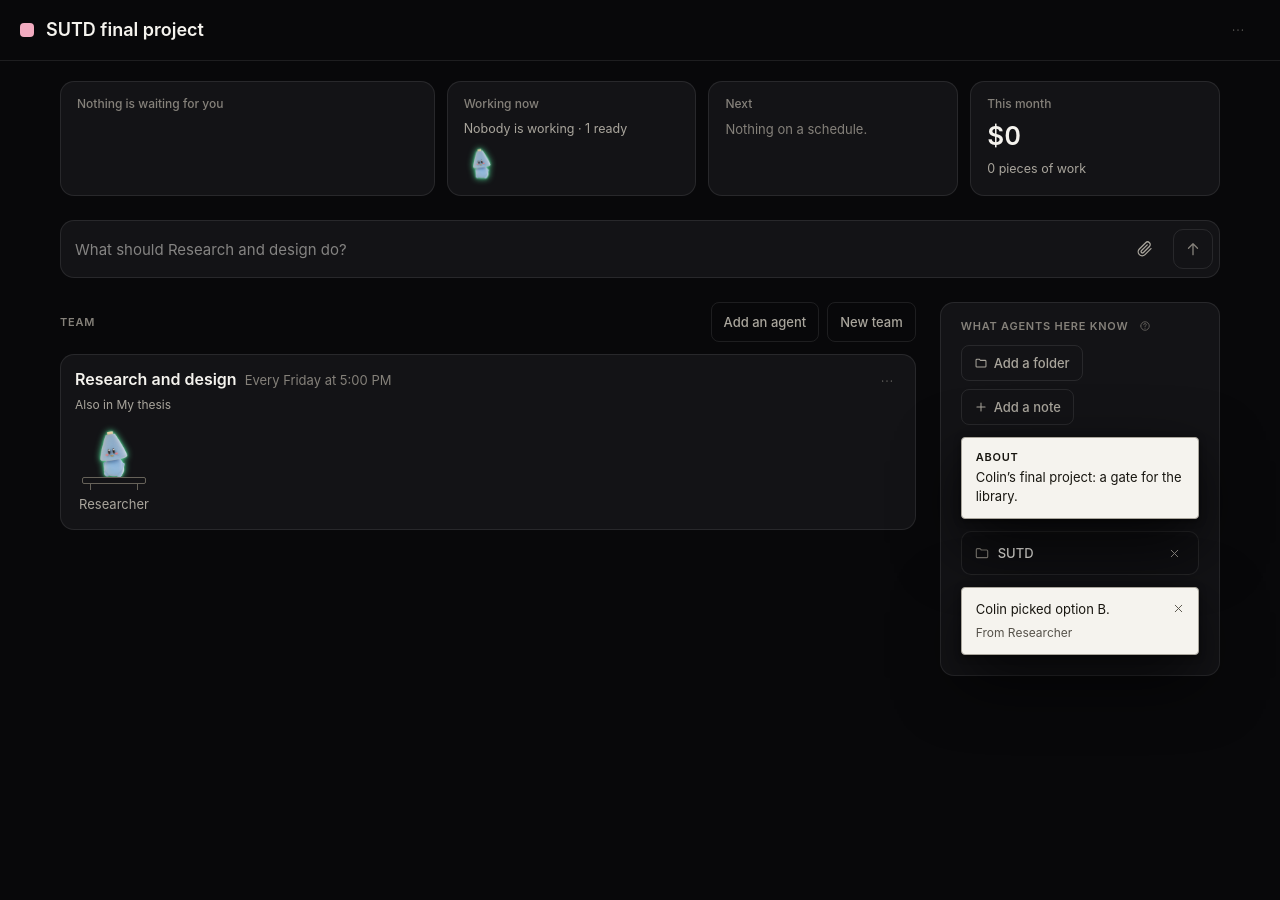
a project’s room (ADR 0097) › a team that works in another project too › says where else it works, and asks before taking it out of this one
Check: the element "Research and design" shows "Also in My thesis", box [60,354,916,530]
Click the button named "More for Research and design": (887, 381) [865,359,909,403]
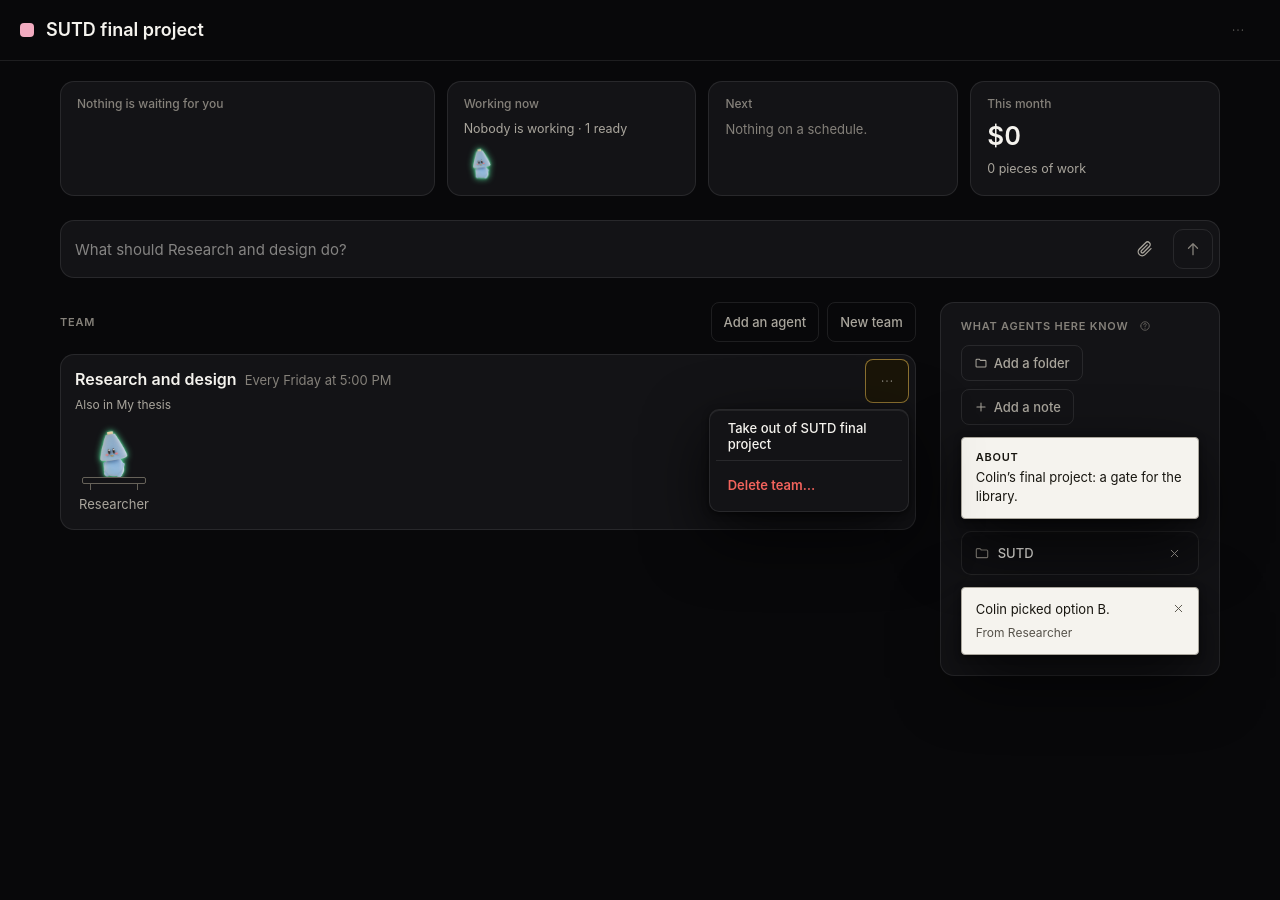
Click the menu item "Take out of SUTD final project": (809, 436) [716,416,902,456]
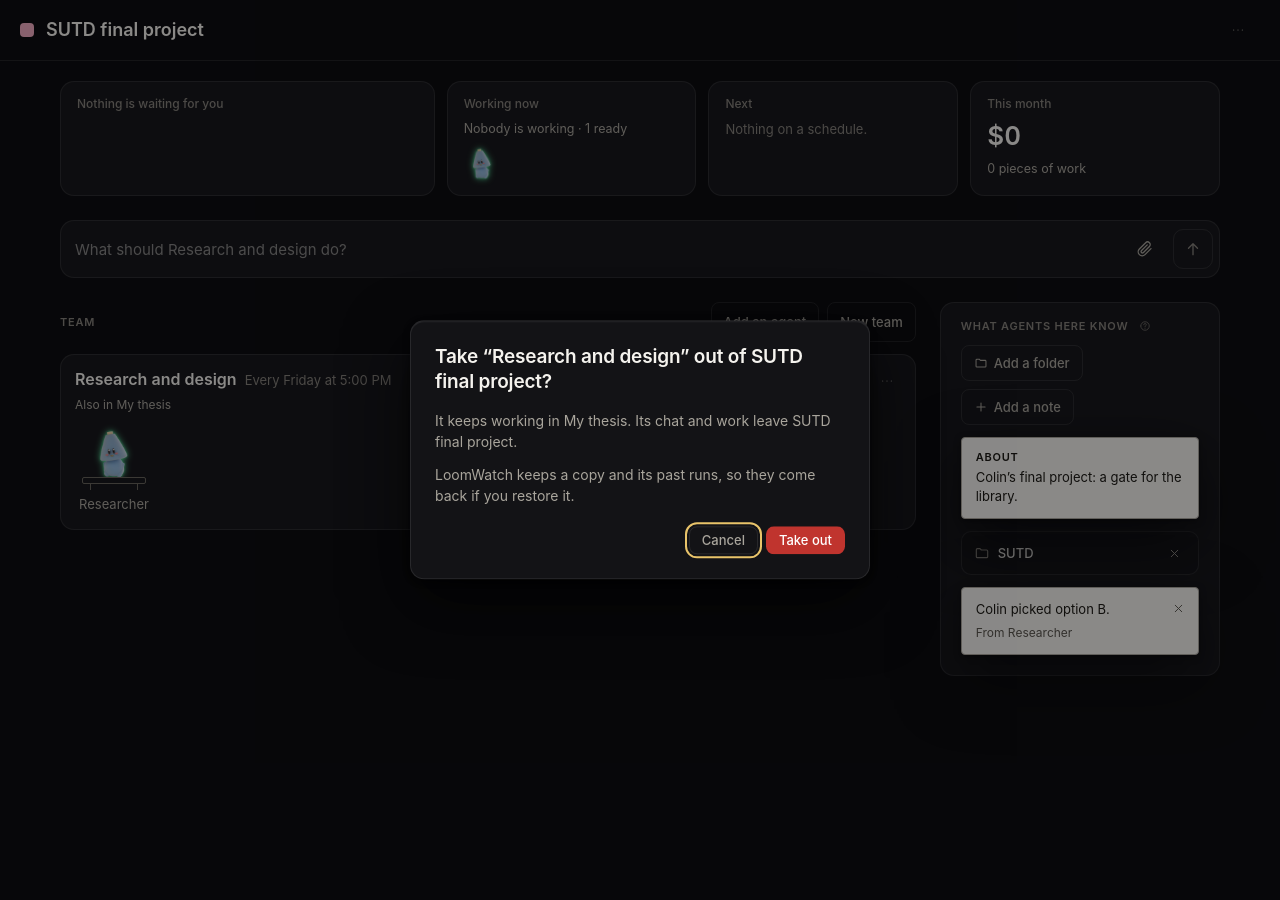
Check: the dialog "Take “Research and design” out of SUTD final project?" shows "It keeps working in My thesis. Its chat and work leave SUTD final project.", box [410,320,870,580]
Check: the dialog "Take “Research and design” out of SUTD final project?" shows "LoomWatch keeps a copy and its past runs, so they come back if you restore it.", box [435,467,815,505]
Click the button "Take out": (805, 541) [766,527,845,555]
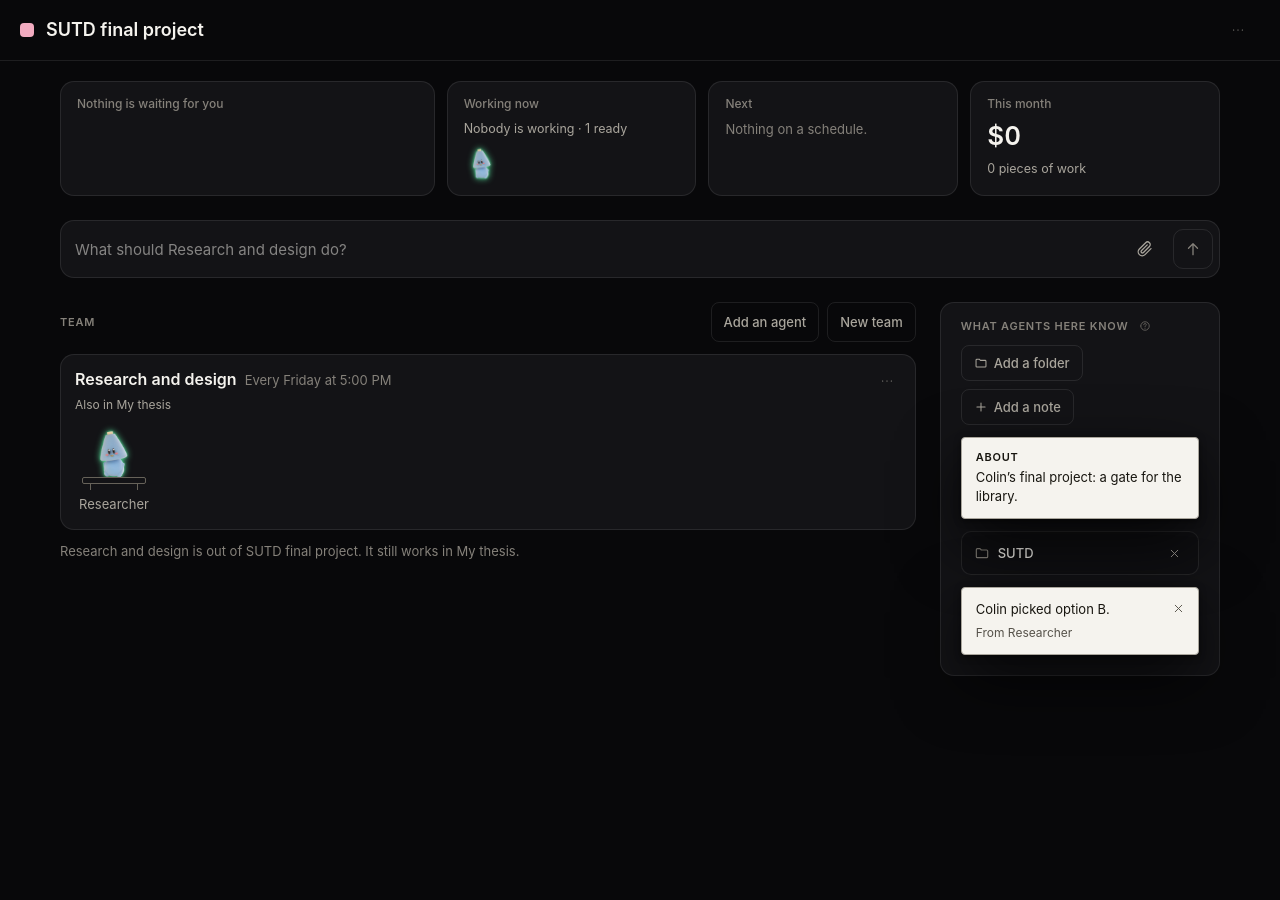
Check: the message reads "Research and design is out of SUTD final project. It still works in My thesis.", box [60,542,520,558]
